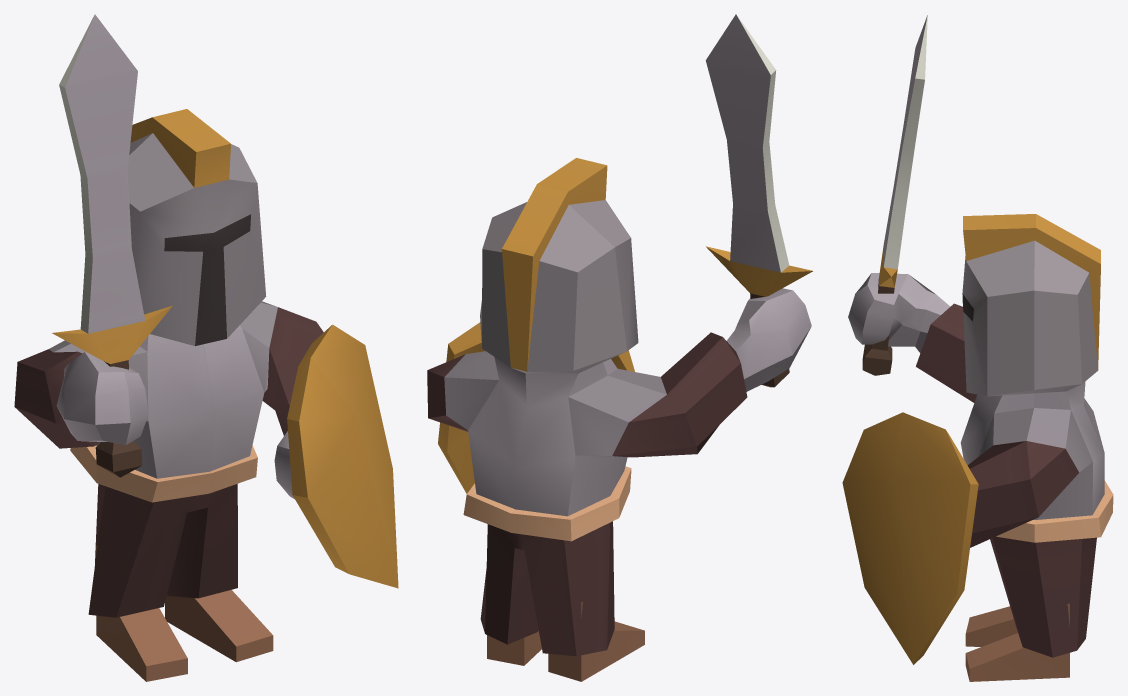
File: chevalier.glb
3 renders of one model, left to right at view 1: azimuth 30°, elevation 25°; view 2: azimuth 150°, elevation 25°; view 3: azimuth 270°, elevation 25°, orthographic. The views are drawn at different scales.
Parts seen in each view (by area): view 1: Object_2; view 2: Object_2; view 3: Object_2.
Boxes of the visible parts, x1,y1,x2,y2 form: Object_2: (14,14,398,681); Object_2: (427,14,812,681); Object_2: (842,15,1113,681).
Bounding box in the file's own units: 1.46 × 2.58 × 1.08.
Materials: 1 (1 with a texture image).
